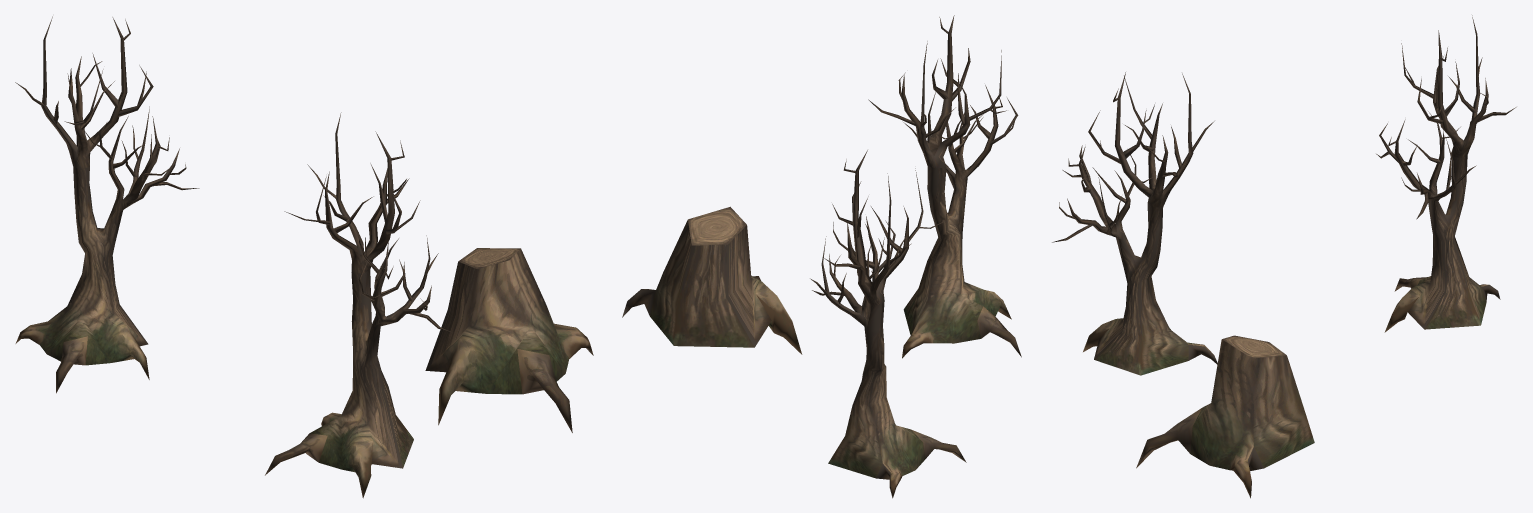
The model's file is plants_tall_tree_trunks207.fbx.
3 views of the same model, side by side, from view 1: azimuth 30°, elevation 25°; view 2: azimuth 150°, elevation 25°; view 3: azimuth 270°, elevation 25° (orthographic). The views are drawn at different scales.
Parts seen in each view (by area): view 1: Material_#238683193/fancy_tree; view 2: Material_#238683193/fancy_tree; view 3: Material_#238683193/fancy_tree.
Boxes of the visible parts, bbox=[...] form: Material_#238683193/fancy_tree: bbox=[15, 16, 593, 498]; Material_#238683193/fancy_tree: bbox=[622, 15, 1021, 498]; Material_#238683193/fancy_tree: bbox=[1052, 15, 1516, 498].
Size of the model in its own units: 12.26 by 9.41 by 12.44.
